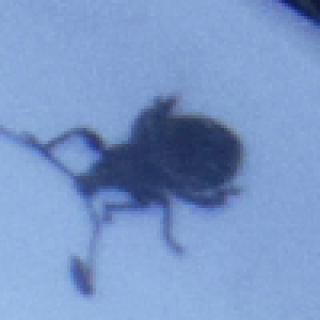bvw: (1, 85, 244, 293)
